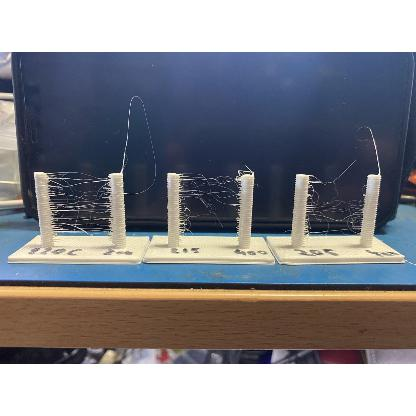fail: (48, 172, 110, 235), (305, 173, 365, 235), (183, 167, 237, 228)
